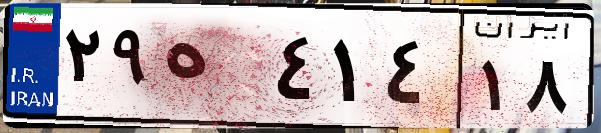1: (330, 28, 385, 110), (475, 38, 525, 113)
2: (57, 26, 110, 100)
4: (270, 28, 330, 110), (385, 28, 445, 110)
8: (525, 38, 570, 115)
9: (110, 28, 158, 98)
ه: (158, 20, 270, 120)
